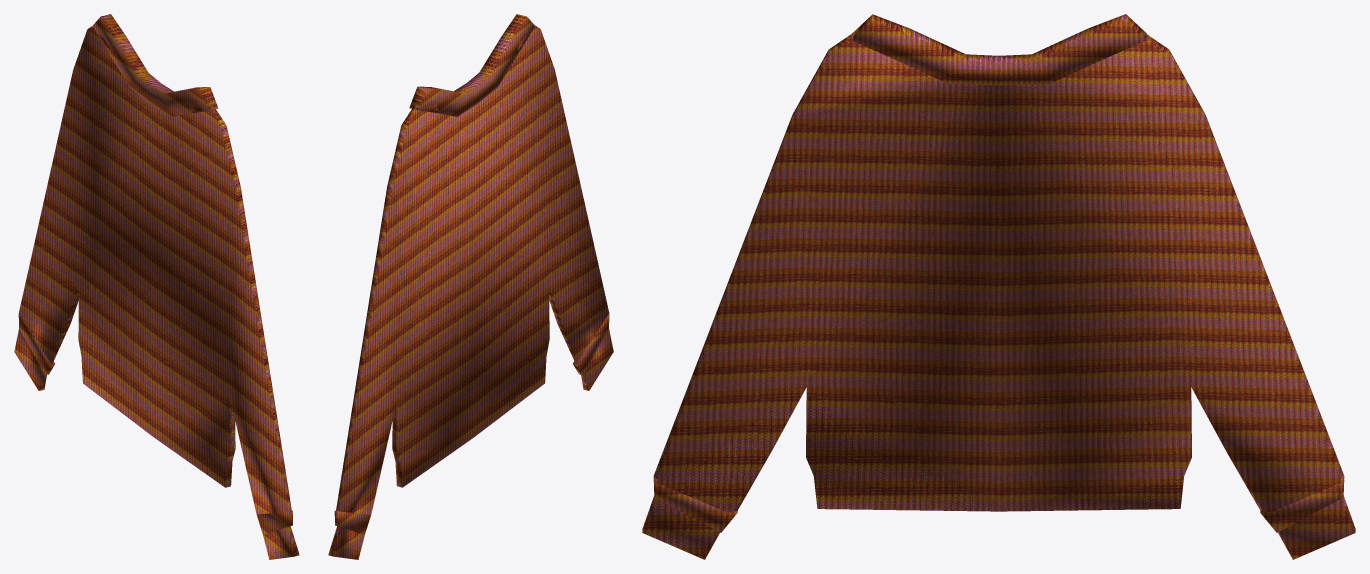
The model's file is sweater4.fbx.
The picture shows the model from 3 angles, left to right: view 1: azimuth 30°, elevation 25°; view 2: azimuth 150°, elevation 25°; view 3: azimuth 270°, elevation 25°; orthographic projection. The views are drawn at different scales.
Parts seen in each view (by area): view 1: sweater4; view 2: sweater4; view 3: sweater4.
Part boxes in pixels (<box>): sweater4: <box>14,14,299,559</box>; sweater4: <box>328,14,613,559</box>; sweater4: <box>642,14,1355,559</box>.
Size of the model in its own units: 0.085 by 2.83 by 3.39.
